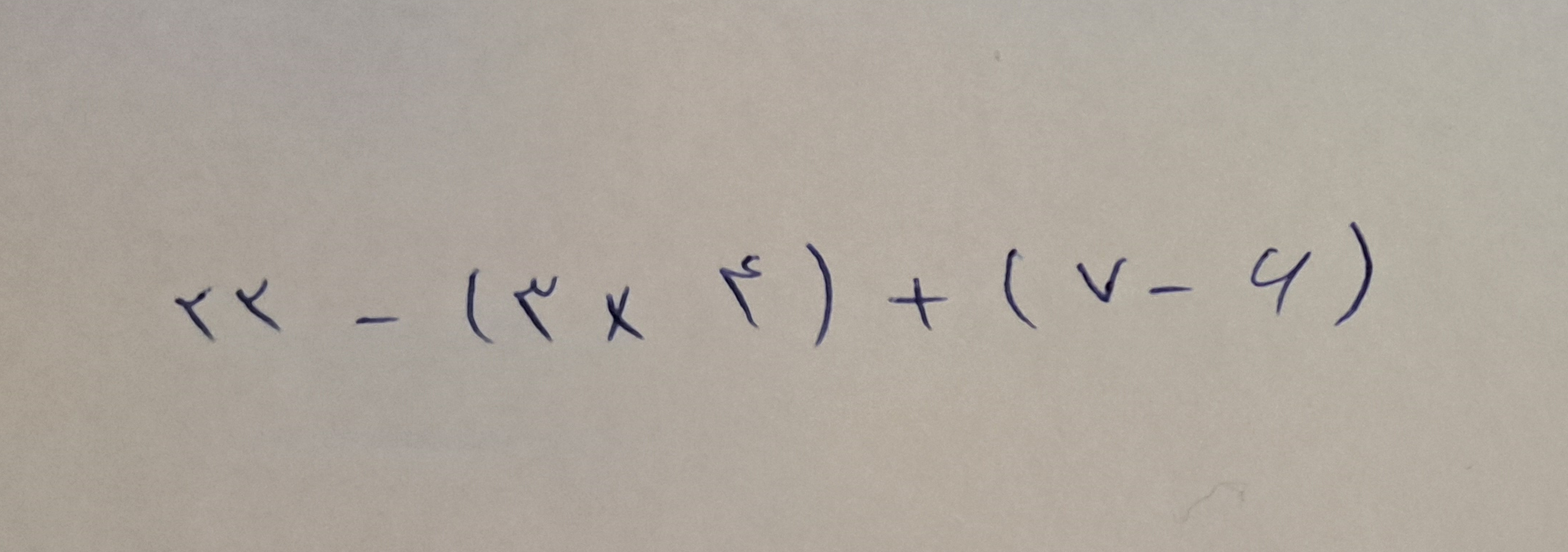character: (1333, 222, 1374, 328), (1250, 247, 1307, 314), (719, 254, 762, 326), (886, 278, 943, 329), (514, 276, 556, 341), (806, 244, 833, 344), (236, 279, 285, 331), (1003, 249, 1034, 328), (174, 288, 214, 341), (605, 286, 645, 339), (1075, 259, 1124, 301), (467, 269, 494, 344), (1149, 284, 1188, 296), (355, 314, 397, 324)
